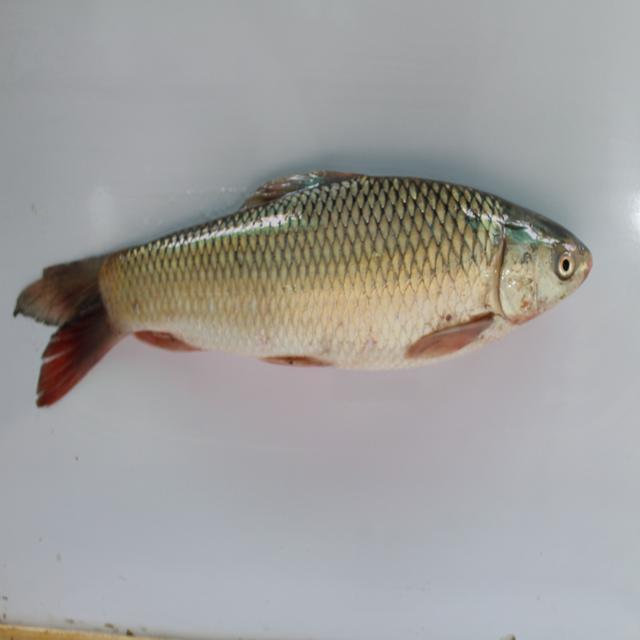Mori: (21, 144, 599, 432)
